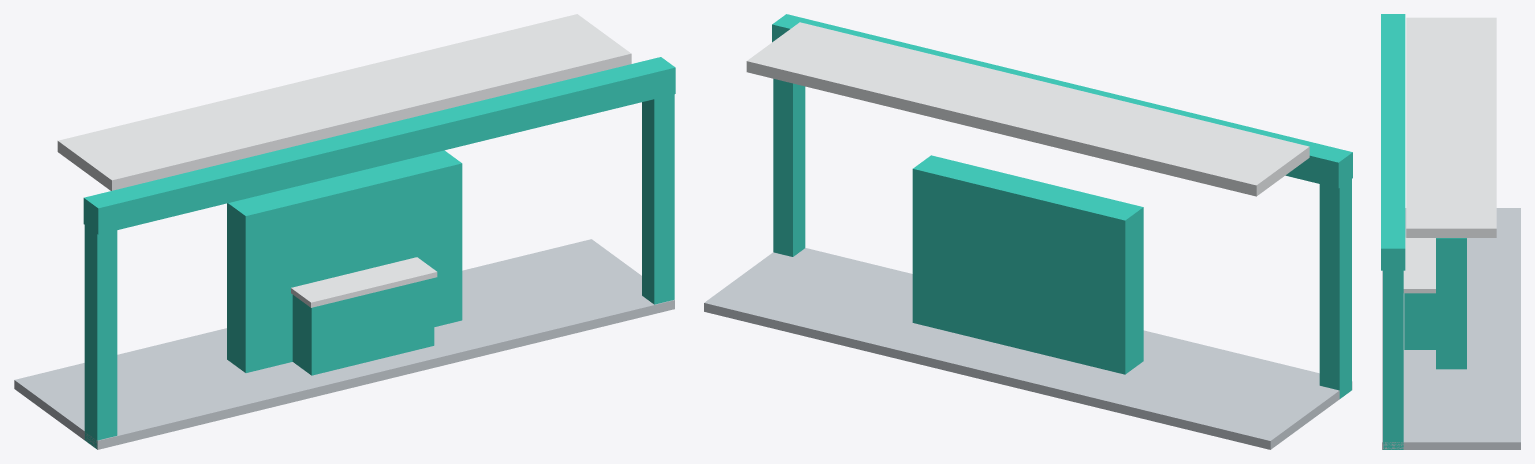
3 renders of one model, left to right at view 1: azimuth 30°, elevation 25°; view 2: azimuth 150°, elevation 25°; view 3: azimuth 270°, elevation 25°, orthographic. The views are drawn at different scales.
Parts seen in each view (by area): view 1: Exhibition Booth Concept; view 2: Exhibition Booth Concept; view 3: Exhibition Booth Concept.
Boxes of the visible parts, bbox=[...] form: Exhibition Booth Concept: bbox=[14, 14, 675, 449]; Exhibition Booth Concept: bbox=[704, 14, 1352, 449]; Exhibition Booth Concept: bbox=[1381, 14, 1520, 449].
Size of the model in its own units: 8 by 3.34 by 2.01.
